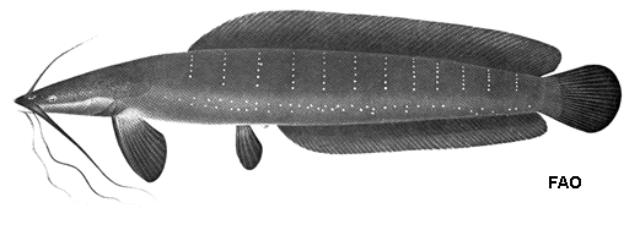Mulut: (3, 84, 42, 134)
Sirip Anal: (274, 111, 552, 160)
Sirip Dada: (96, 94, 176, 192)
Sirip Ekor: (549, 53, 629, 145)
Sirip Perut: (225, 114, 271, 186)
Sirip Punggung: (180, 4, 566, 80)
